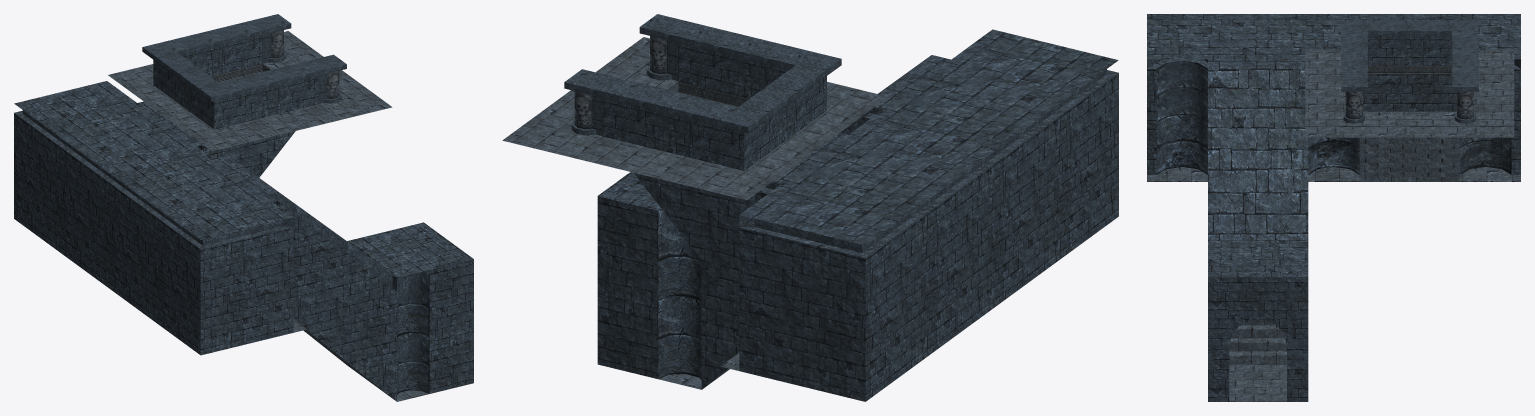
Rendered from FloorStairs.FBX.
The picture shows the model from 3 angles, left to right: view 1: azimuth 30°, elevation 25°; view 2: azimuth 150°, elevation 25°; view 3: azimuth 270°, elevation 25°; orthographic projection. The views are drawn at different scales.
Parts seen in each view (by area): view 1: FloorStairs; view 2: FloorStairs; view 3: FloorStairs.
Boxes of the visible parts, x1,y1,x2,y2 form: FloorStairs: (14,14,473,401); FloorStairs: (502,14,1118,401); FloorStairs: (1147,14,1520,401).
Size of the model in its own units: 154 by 138 by 164.
